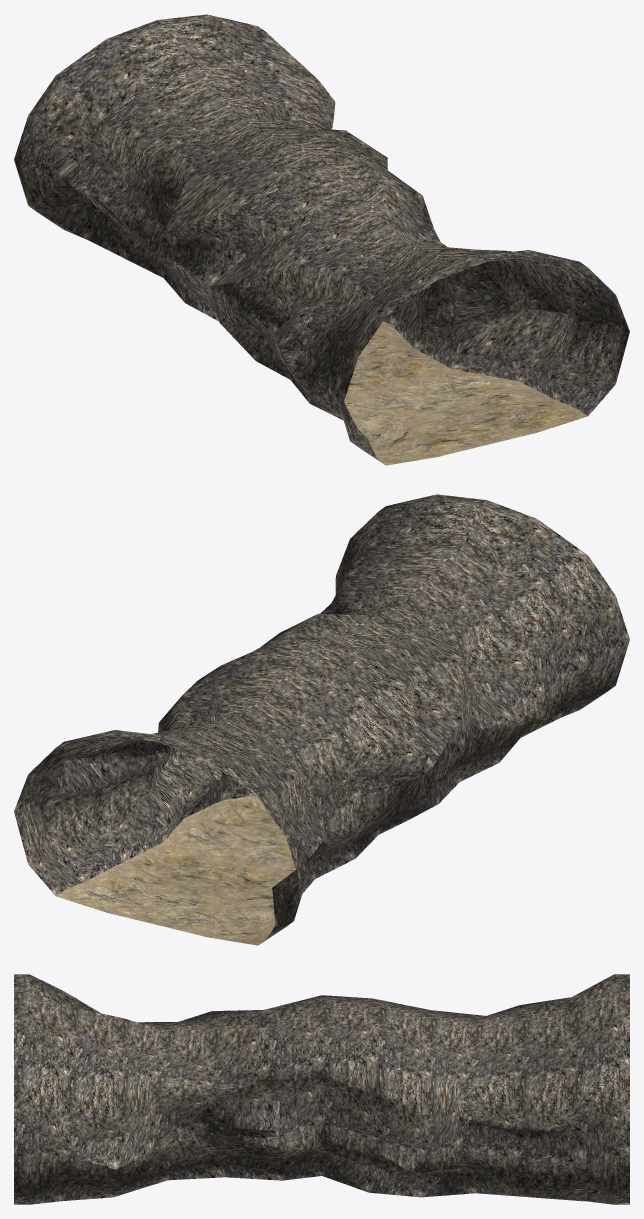
Rendered from pir_m_are_cav_hallWide200.fbx.
3 renders of one model, top to bottom at view 1: azimuth 30°, elevation 25°; view 2: azimuth 150°, elevation 25°; view 3: azimuth 270°, elevation 25°, orthographic. The views are drawn at different scales.
Visible parts, largest first — view 1: hallWide200_wall, hallWide200_floor; view 2: hallWide200_wall, hallWide200_floor; view 3: hallWide200_wall.
Part boxes in pixels (x1=…): hallWide200_wall: x1=14, y1=14, x2=629, y2=463; hallWide200_floor: x1=344, y1=321, x2=587, y2=465; hallWide200_wall: x1=14, y1=494, x2=629, y2=943; hallWide200_floor: x1=56, y1=795, x2=295, y2=945; hallWide200_wall: x1=14, y1=974, x2=629, y2=1204.
Size of the model in its own units: 10000 by 6125 by 20000.
2 materials, 2 textured.
